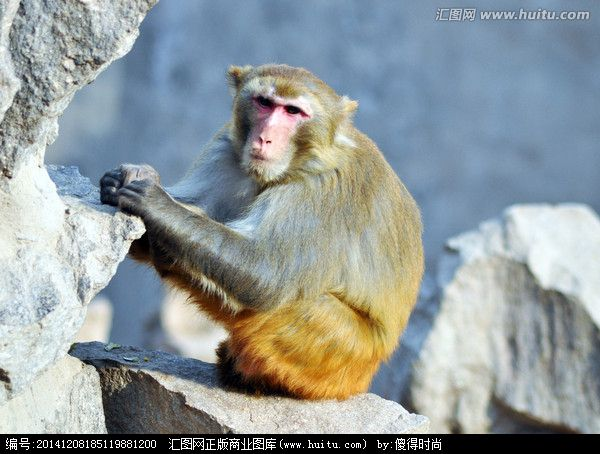monkey: (117, 57, 423, 385)
